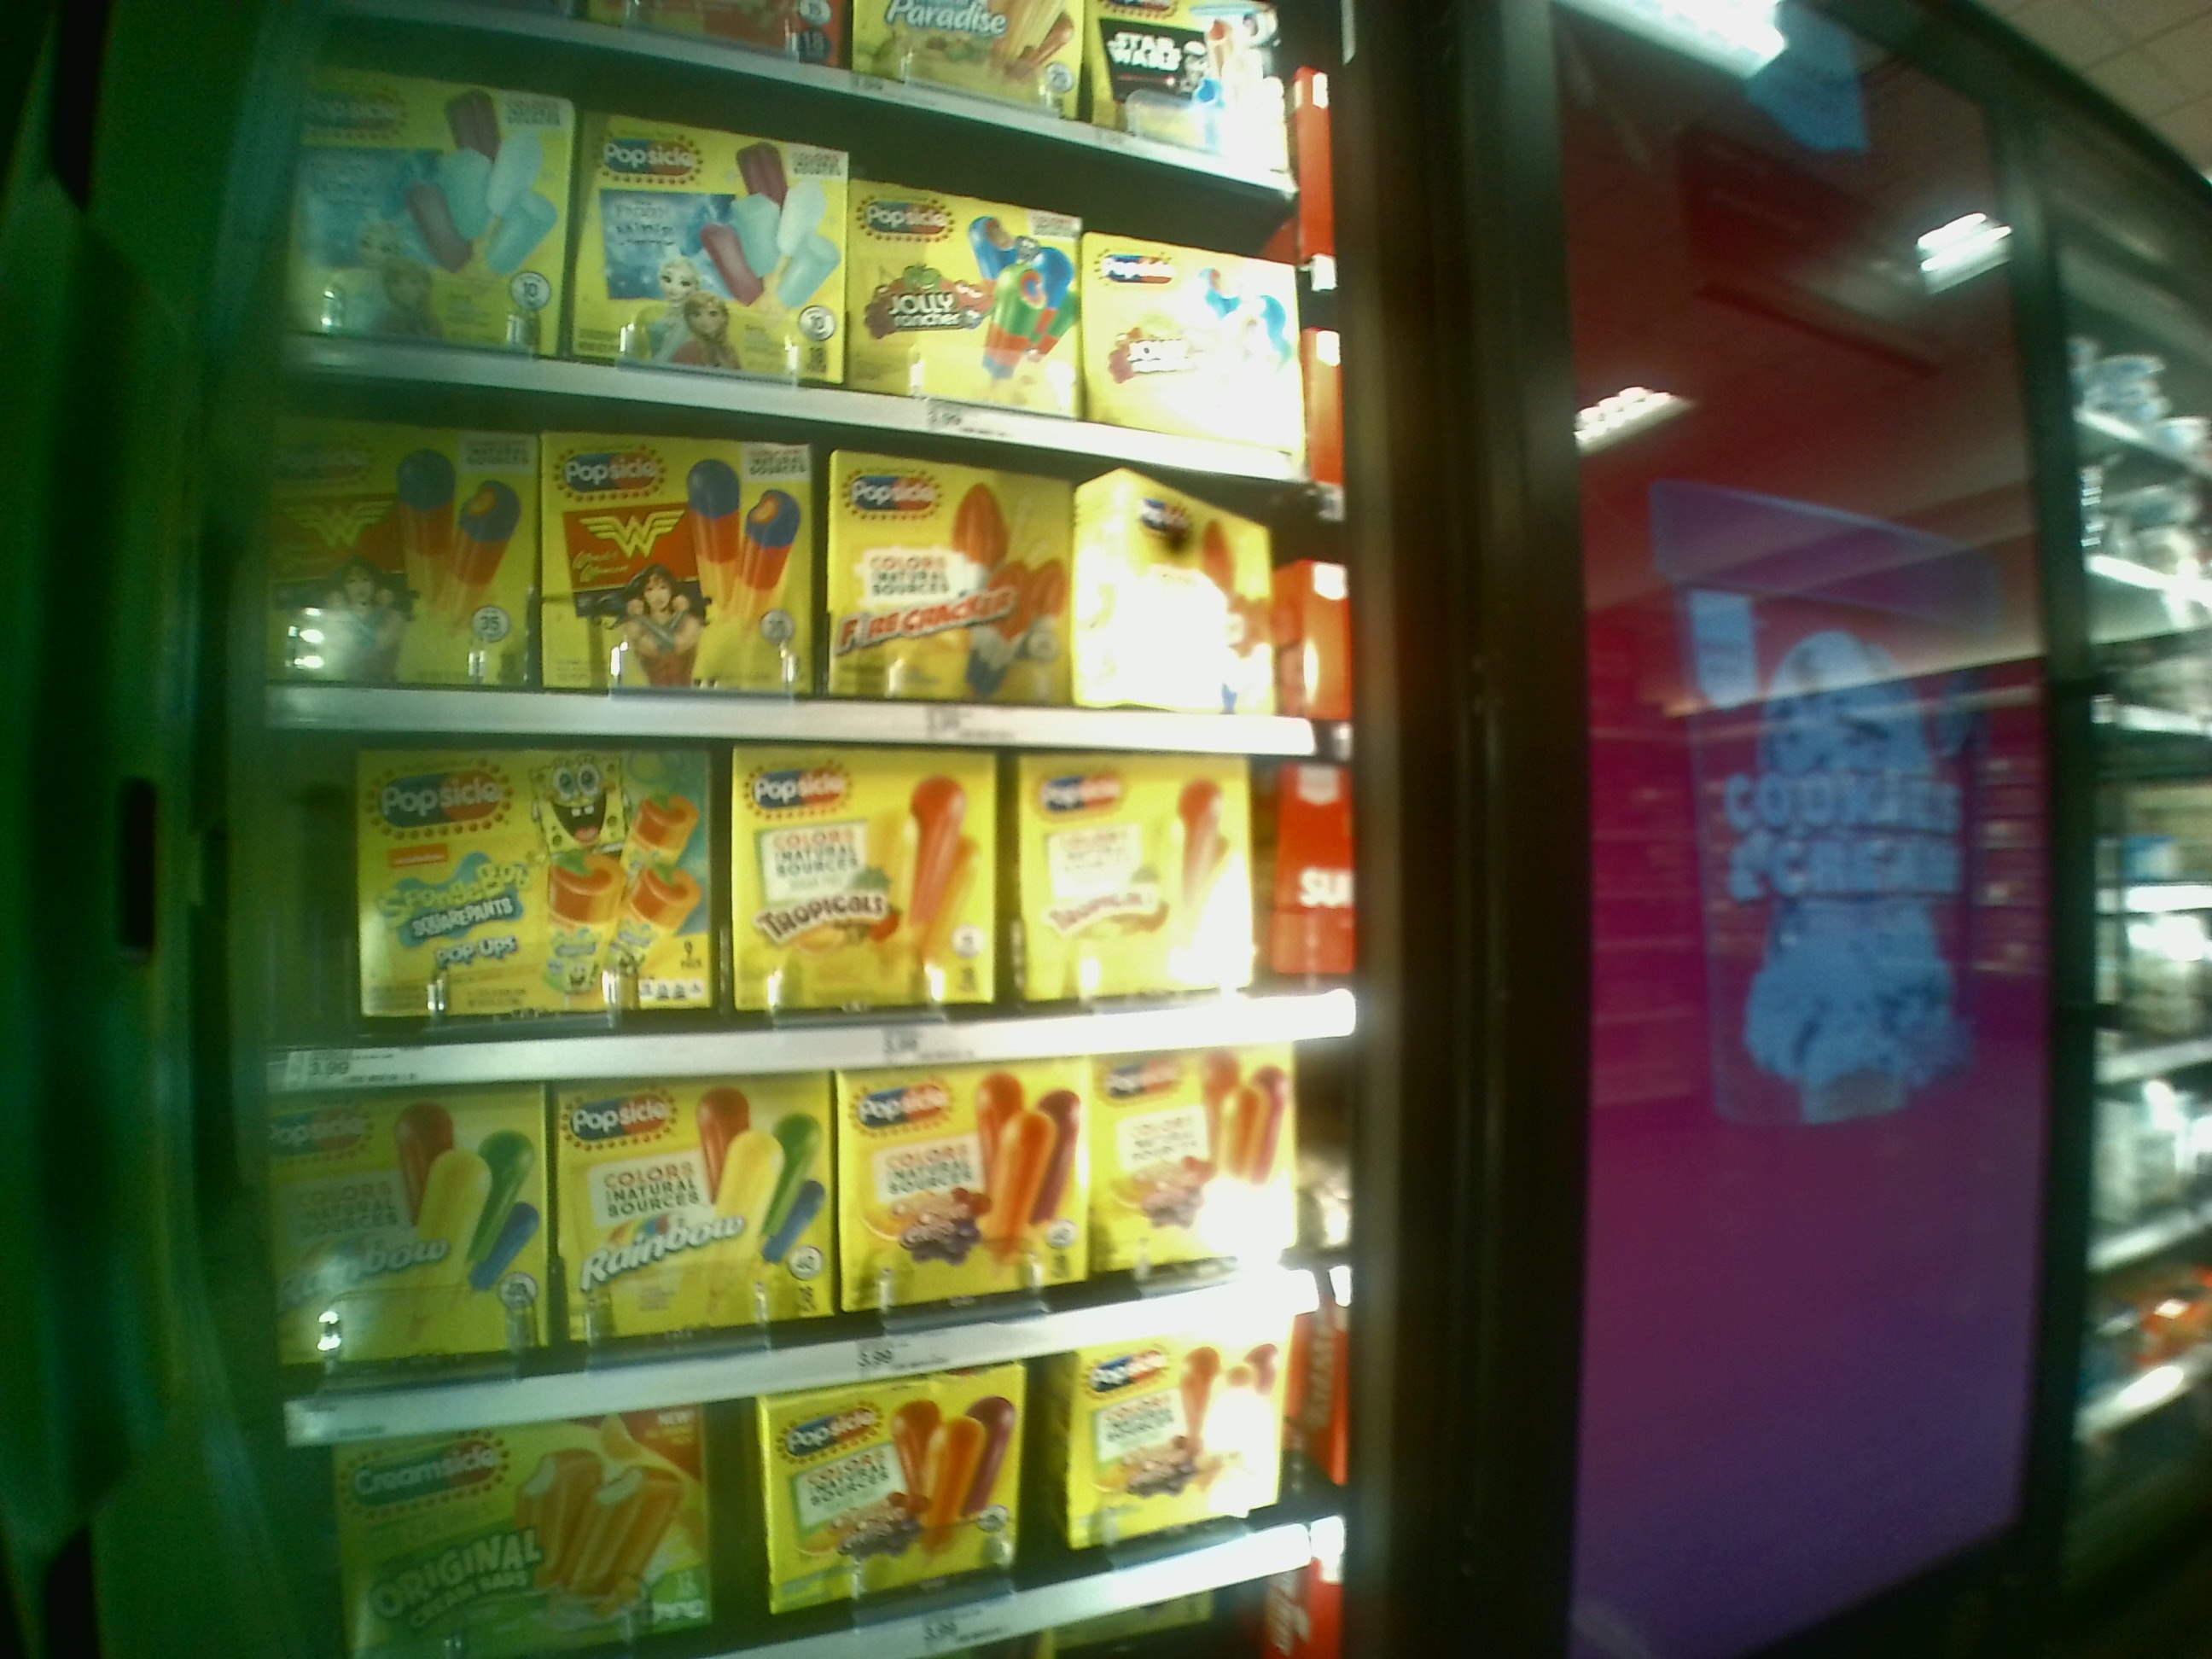frozen-food-shelf: (265, 730, 1359, 1087)
